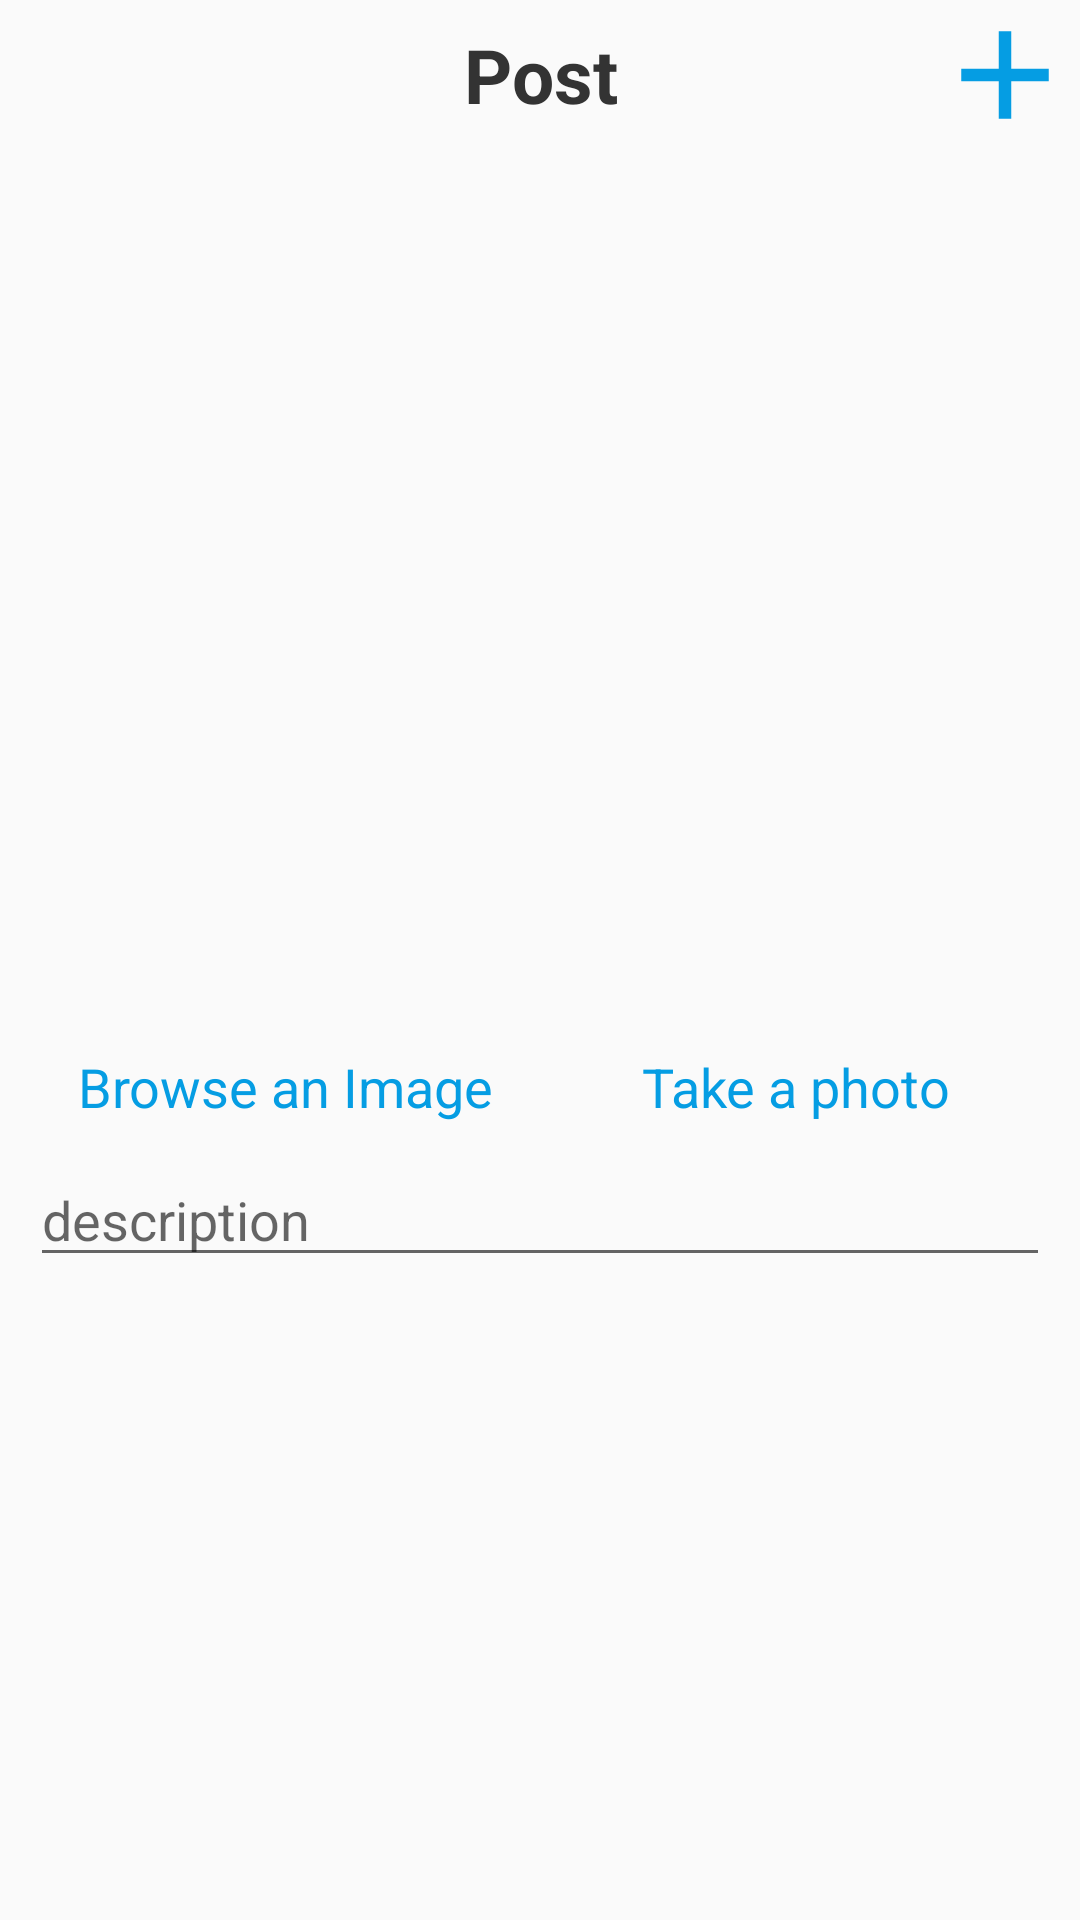

Named icons in this screenshot (1080*1920) and their centers, [x,y]:
add highlight: [1005,75]
